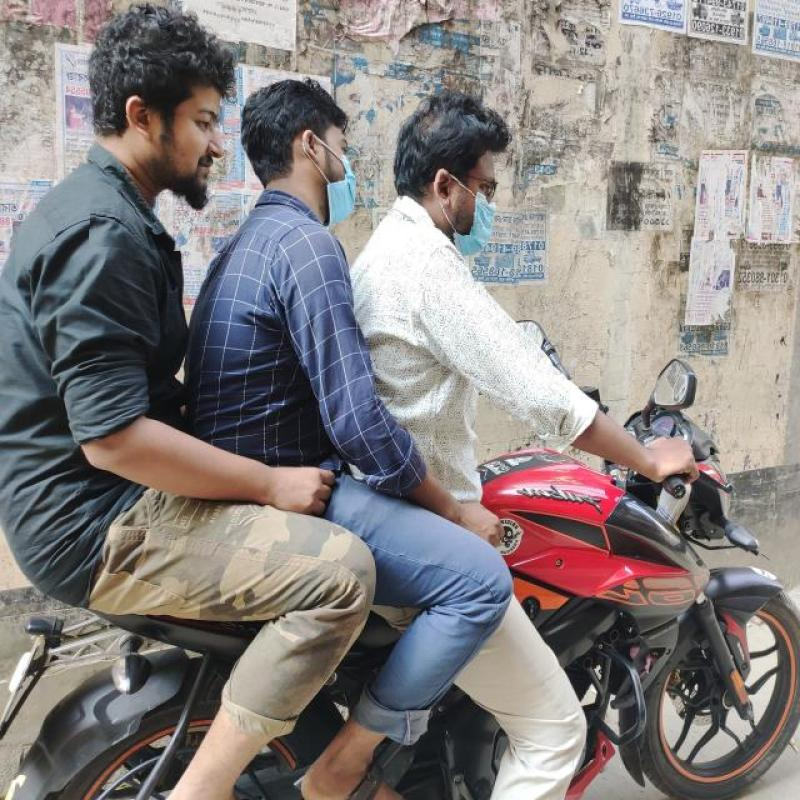nohelmet: (92, 0, 238, 251), (387, 83, 529, 284), (243, 50, 365, 222)
